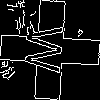W: (25, 25, 73, 74)
